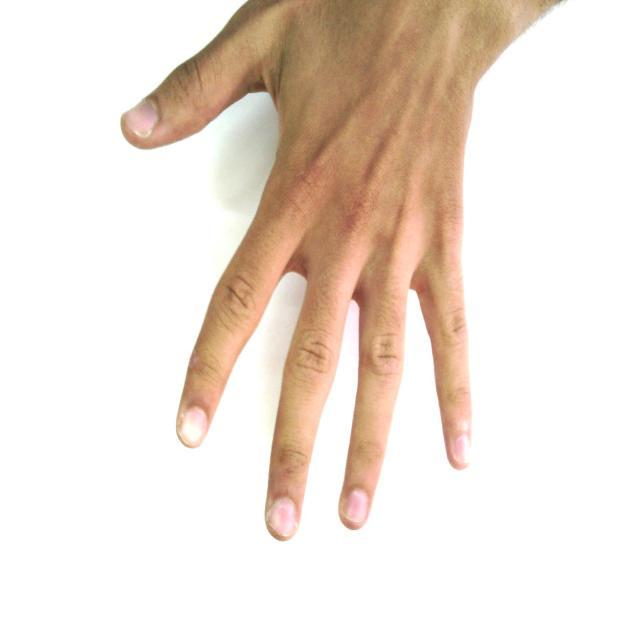Fingernail: (127, 101, 157, 135), (269, 499, 296, 536), (182, 408, 206, 446), (346, 490, 368, 525), (454, 435, 467, 465)
